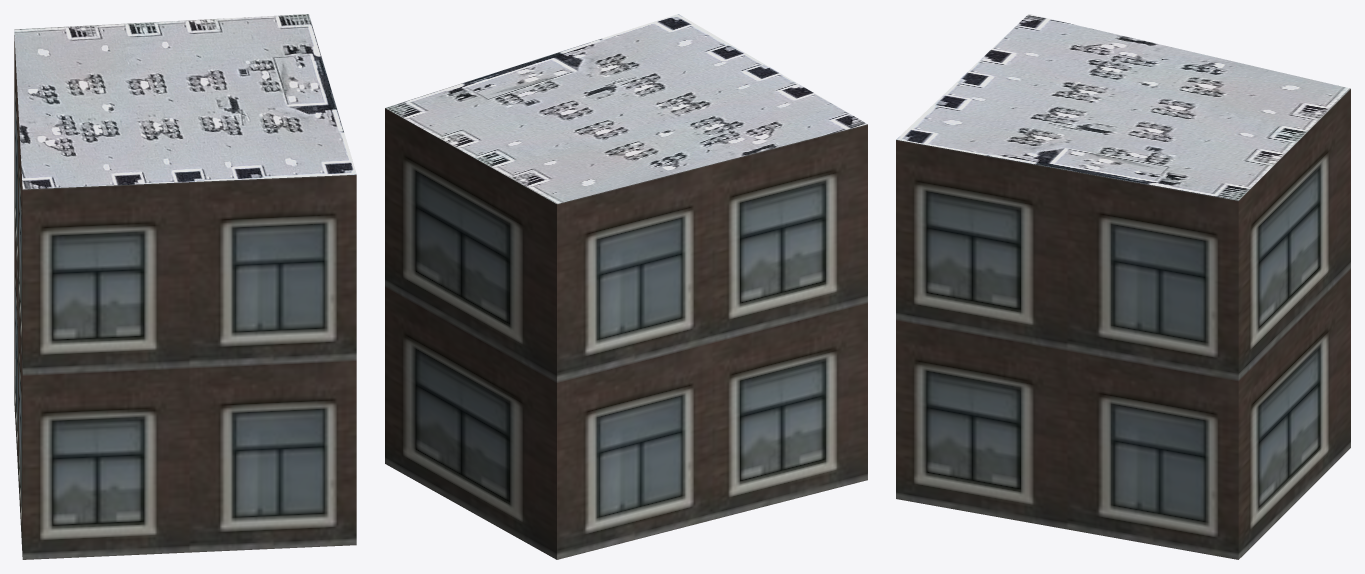
The model's file is ResTex__2365.fbx.
3 renders of one model, left to right at view 1: azimuth 30°, elevation 25°; view 2: azimuth 150°, elevation 25°; view 3: azimuth 270°, elevation 25°, orthographic. The views are drawn at different scales.
Visible parts, largest first — view 1: CityEngineMaterial_16_m, CityEngineMaterial_15_m; view 2: CityEngineMaterial_16_m, CityEngineMaterial_15_m; view 3: CityEngineMaterial_16_m, CityEngineMaterial_15_m.
Part boxes in pixels (x1=…): CityEngineMaterial_16_m: x1=14, y1=35, x2=356, y2=559; CityEngineMaterial_15_m: x1=14, y1=14, x2=356, y2=189; CityEngineMaterial_16_m: x1=385, y1=108, x2=867, y2=559; CityEngineMaterial_15_m: x1=385, y1=14, x2=867, y2=203; CityEngineMaterial_16_m: x1=896, y1=89, x2=1350, y2=559; CityEngineMaterial_15_m: x1=896, y1=14, x2=1350, y2=200.
Size of the model in its own units: 6.69 by 6 by 6.89.
2 materials, 2 textured.
